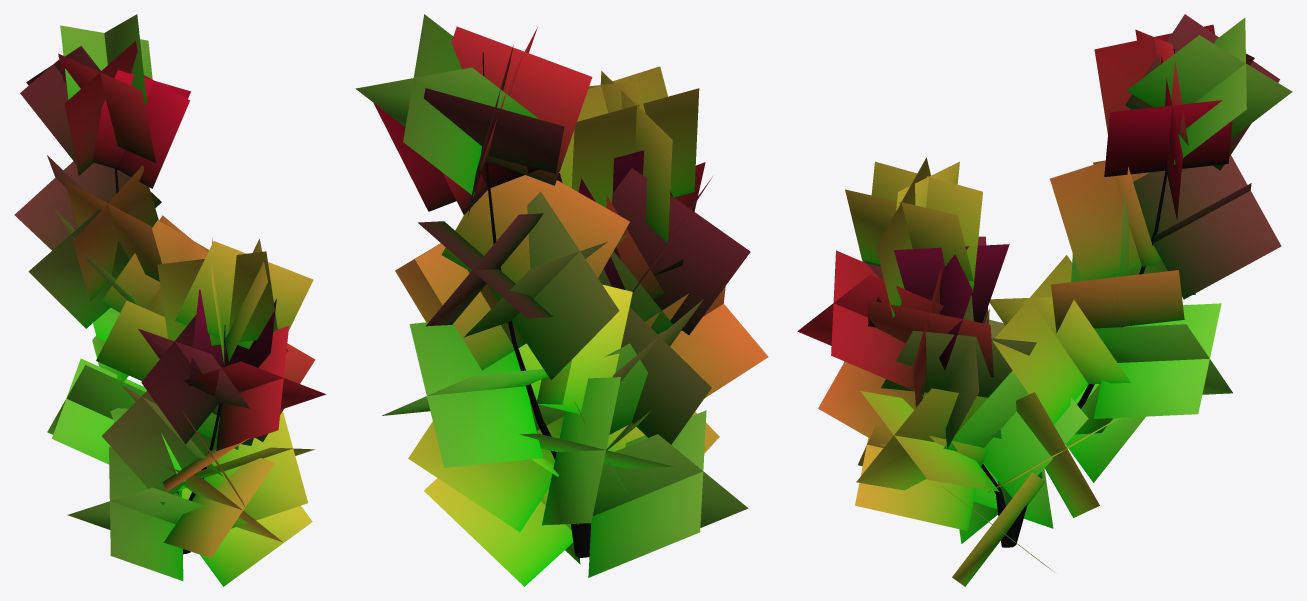
File: Tree_12.fbx
The picture shows the model from 3 angles, left to right: view 1: azimuth 30°, elevation 25°; view 2: azimuth 150°, elevation 25°; view 3: azimuth 270°, elevation 25°; orthographic projection. The views are drawn at different scales.
Visible parts, largest first — view 1: Tree_12; view 2: Tree_12; view 3: Tree_12.
Part boxes in pixels (x1,y1,x2,y2): Tree_12: (14, 14, 325, 586); Tree_12: (355, 14, 768, 586); Tree_12: (797, 14, 1292, 586).
Size of the model in its own units: 442 by 994 by 795.
